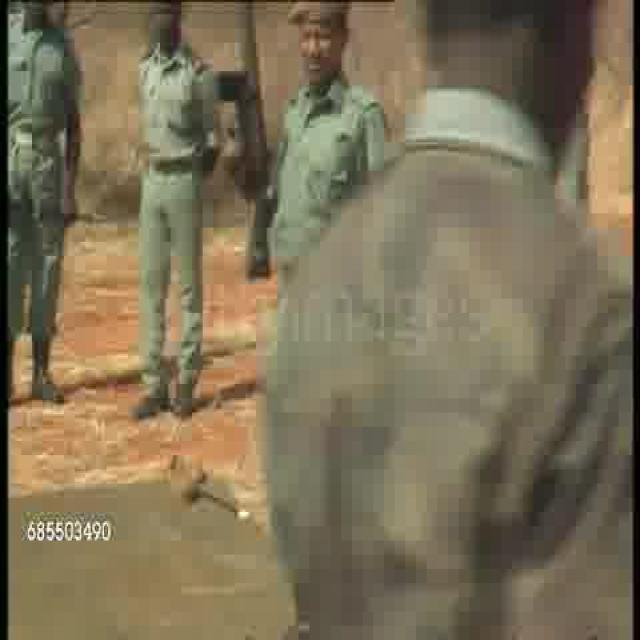poacher: (350, 5, 640, 485), (115, 2, 221, 441), (2, 2, 82, 434), (274, 2, 378, 297)
weapon: (216, 2, 271, 276)
